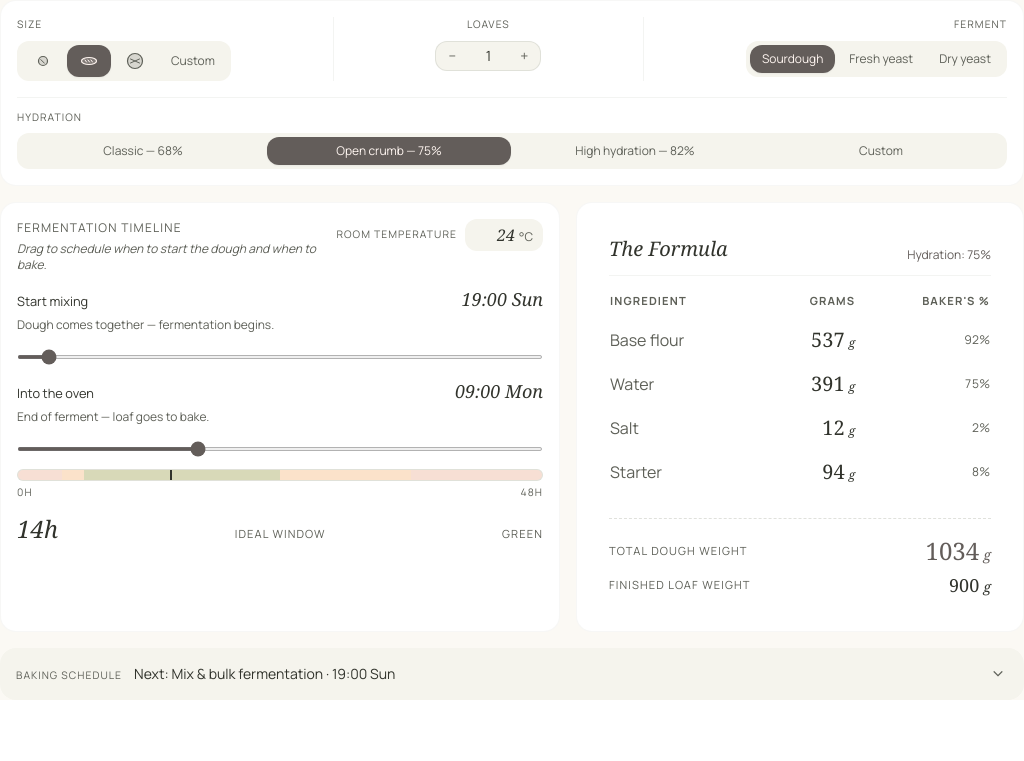
Scenario 08: baking schedule arc preview › renders schedule as an ordered list of steps once expanded
Click the button "Baking schedule Next: Mix & bulk fermentation · 19:00 Sun".
click(69, 675)  # box [0,648,1023,700]
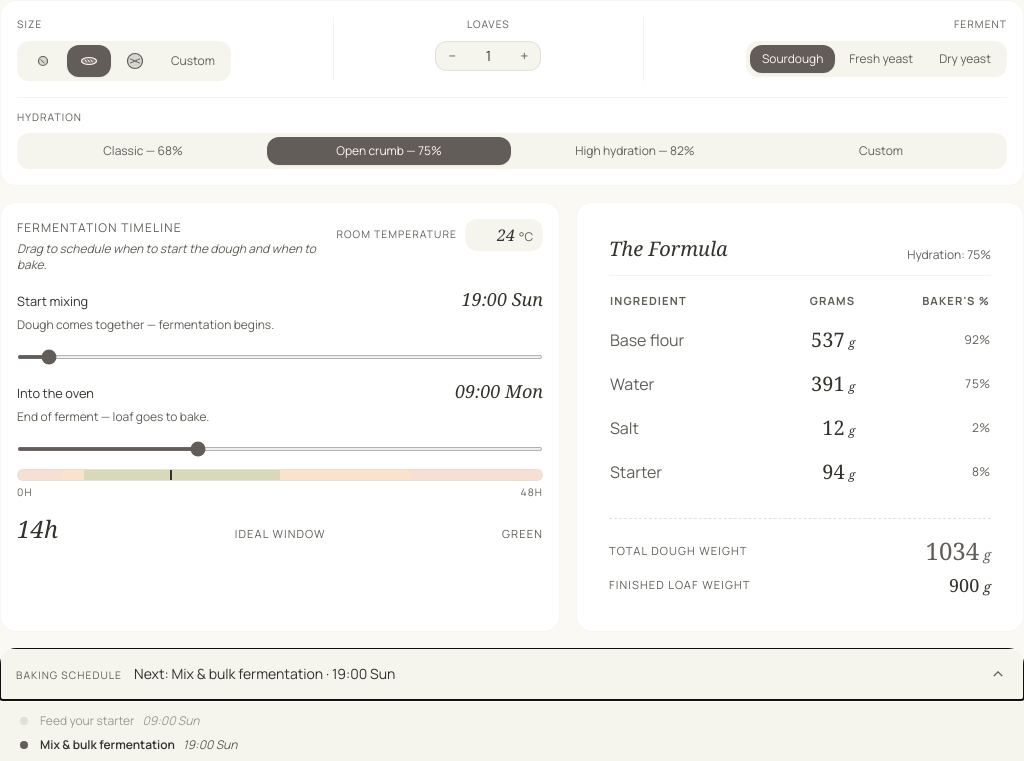
Result: the list item "Feed your starter09:00 Sun" is shown at [20,712,200,729]
